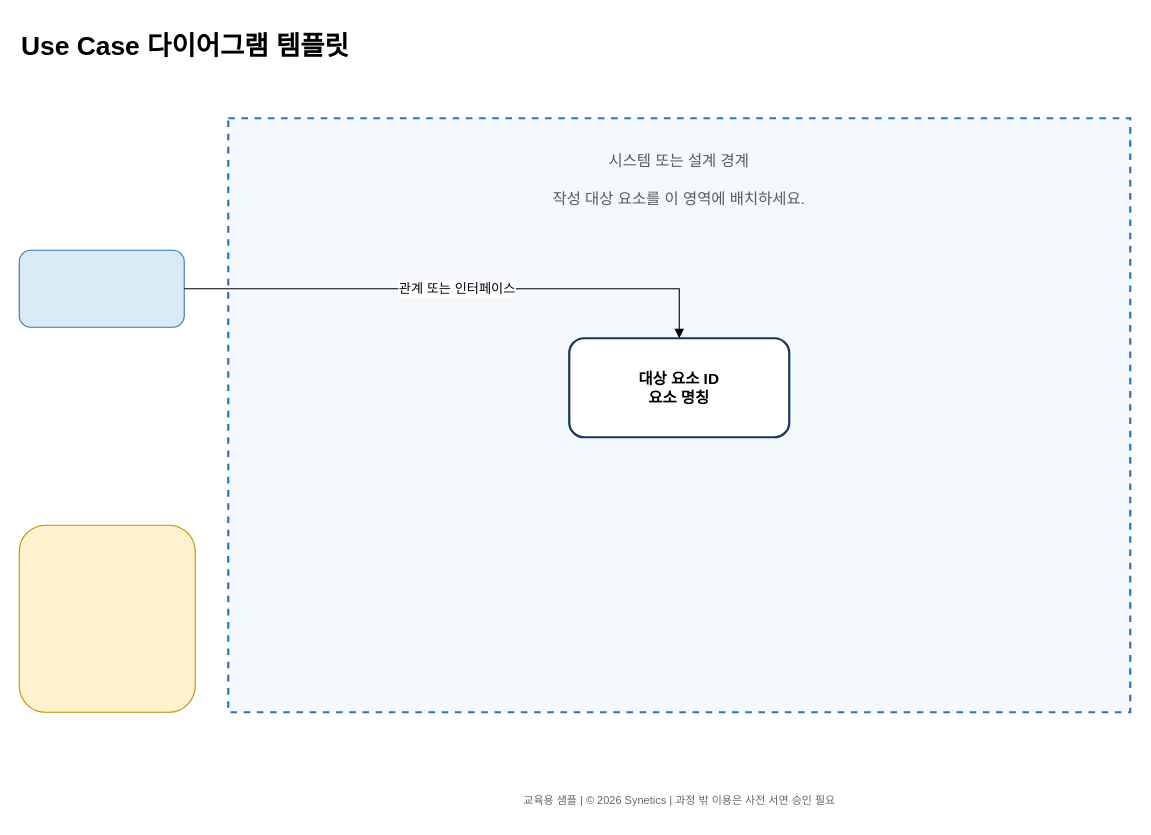
This 1151x835 diagram has some shape labels left out. The shapes that lost their labels are listed below. From the top down, each one's box as (x1, y1, x2, y2) in pixels, then its label:
(18, 249, 184, 327): 외부 액터 또는 요소
(18, 524, 195, 712): 작성 안내 1. 시스템 경계와 대상 기능 2. 주 액터와 보조 액터 3. Use Case와 관계 4. 관련 요구사항 ID
